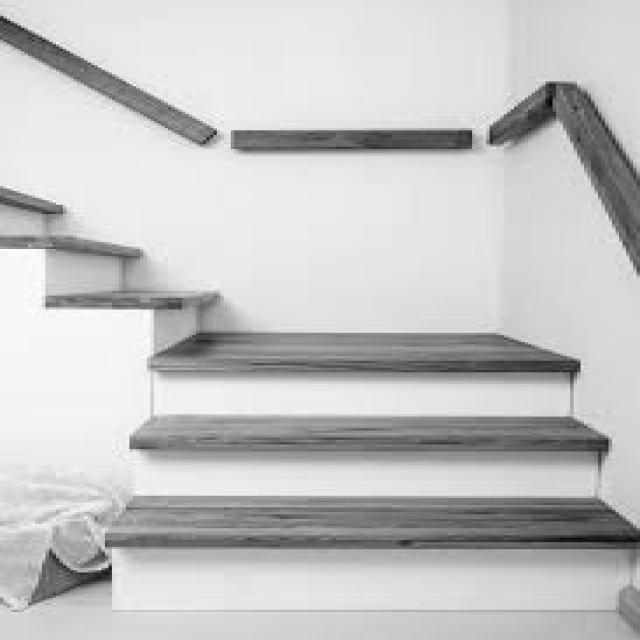stair: (110, 360, 640, 608)
